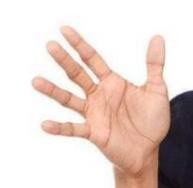down: (32, 26, 167, 163)
